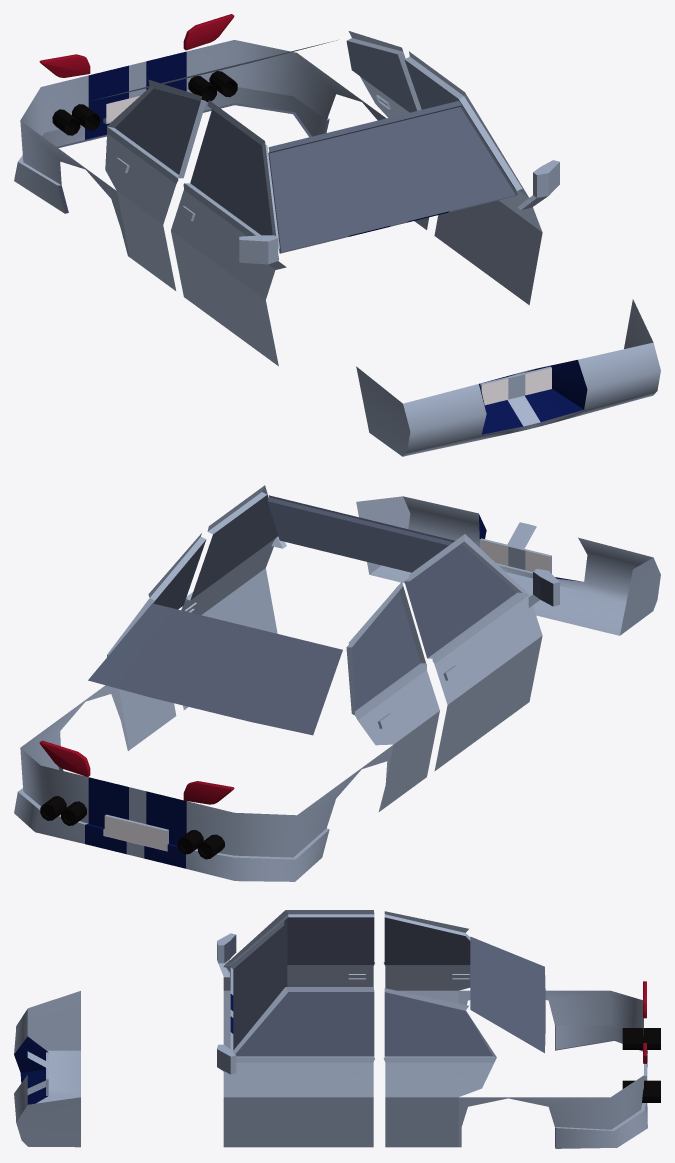
Rendered from car1Bumper2.fbx.
3 renders of one model, top to bottom at view 1: azimuth 30°, elevation 25°; view 2: azimuth 150°, elevation 25°; view 3: azimuth 270°, elevation 25°, orthographic. The views are drawn at different scales.
Visible parts, largest first — view 1: Bumper2; view 2: Bumper2; view 3: Bumper2.
Boxes of the visible parts, bbox=[...] form: Bumper2: bbox=[14, 14, 660, 456]; Bumper2: bbox=[14, 485, 660, 881]; Bumper2: bbox=[14, 910, 660, 1148].
Size of the model in its own units: 2.81 by 1.6 by 6.24.
